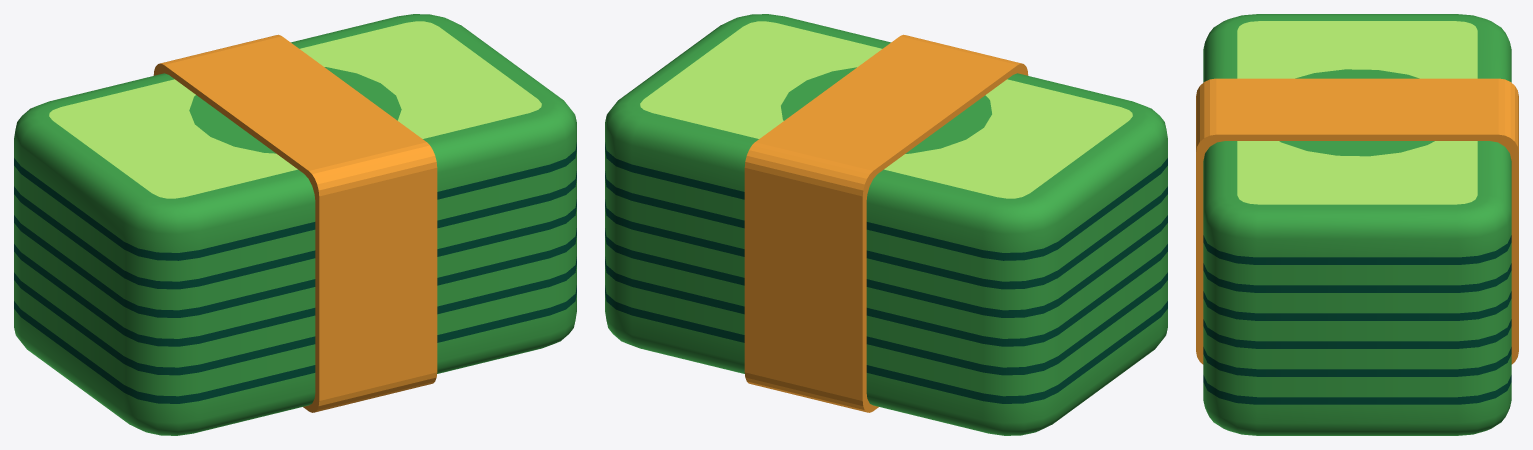
Rendered from Money_Model.fbx.
3 renders of one model, left to right at view 1: azimuth 30°, elevation 25°; view 2: azimuth 150°, elevation 25°; view 3: azimuth 270°, elevation 25°, orthographic. The views are drawn at different scales.
Parts seen in each view (by area): view 1: Money; view 2: Money; view 3: Money.
Part boxes in pixels (x1,y1,x2,y2): Money: (14, 14, 576, 435); Money: (605, 14, 1167, 435); Money: (1196, 14, 1518, 435).
Bounding box in the file's own units: 0.9726 × 0.5009 × 0.6249.
